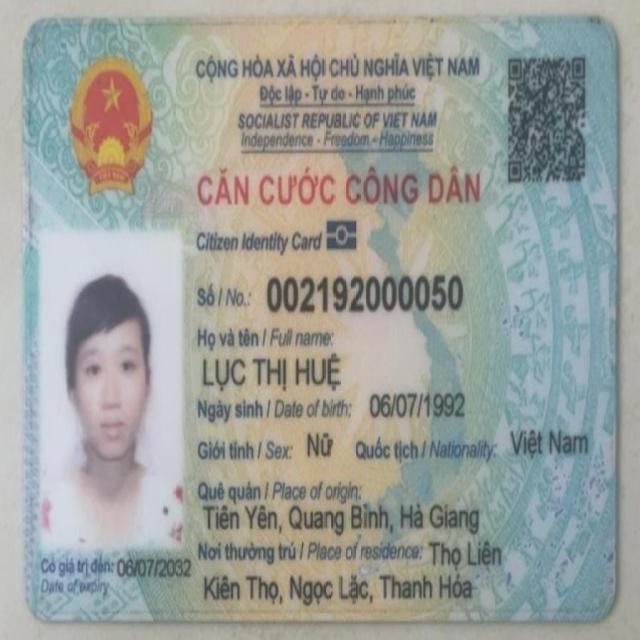current_place: (201, 564, 474, 612), (426, 536, 504, 572)
dob: (367, 388, 467, 421)
expire_date: (116, 550, 195, 581)
gender: (304, 428, 334, 459)
id: (263, 272, 463, 312)
name: (199, 353, 343, 393)
nationality: (509, 424, 593, 463)
origin_place: (202, 501, 484, 538)
qr: (504, 48, 594, 188)
